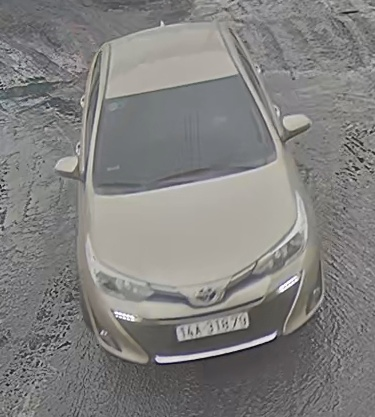vehicle plate: (163, 312, 256, 339)
